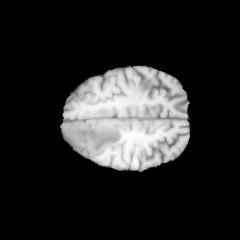glioma: (63, 121, 123, 151)
